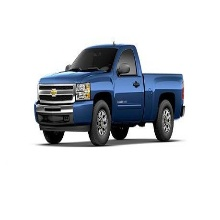no damage: (34, 40, 185, 147)
